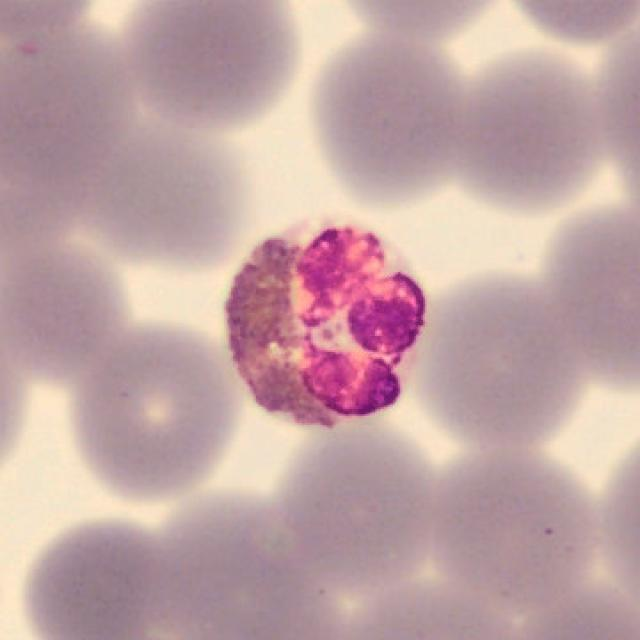Eosinofilo: (224, 215, 428, 430)
